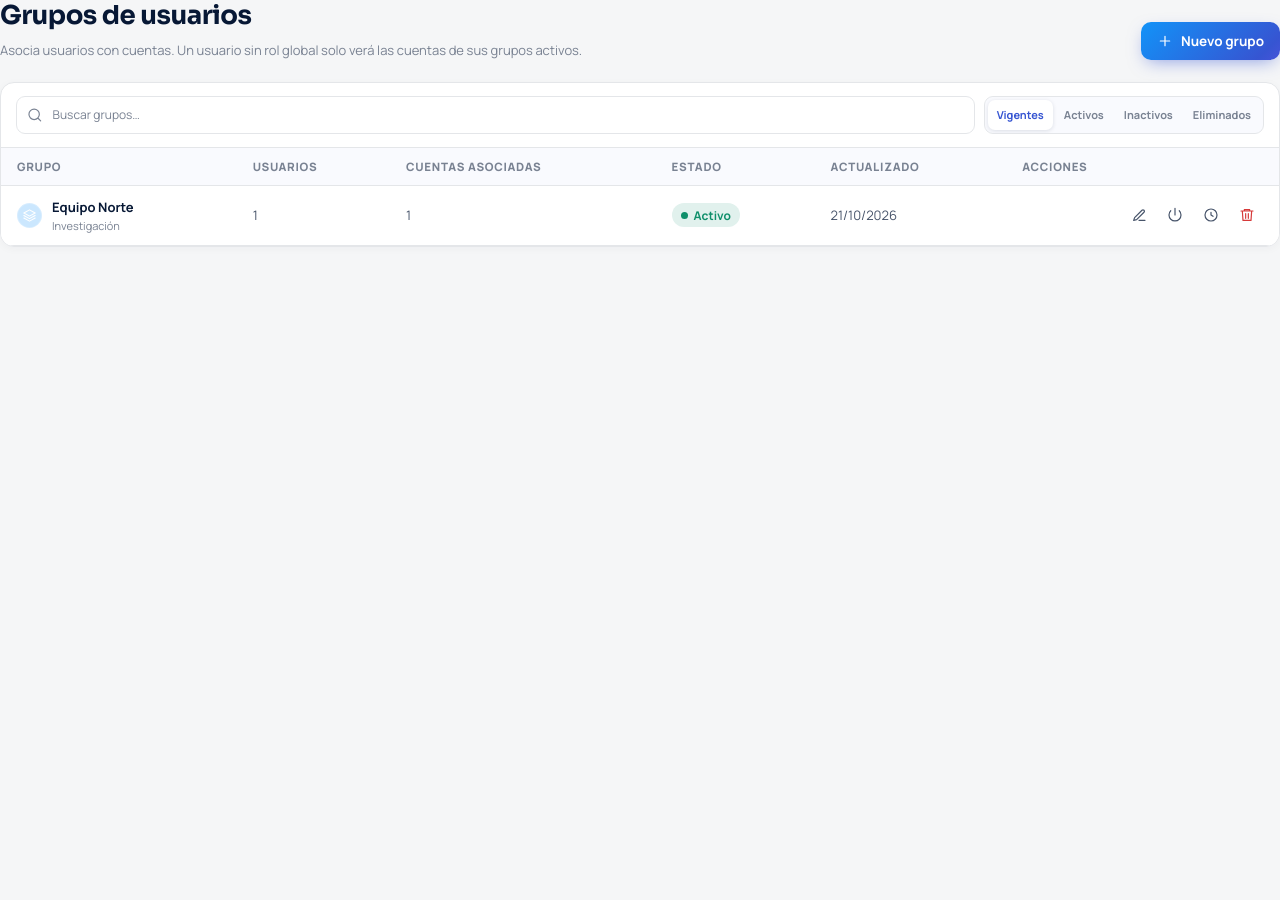
Test: Grupos según patrón de Clientes › fila seleccionable, badge y acciones separadas
Expected: the element with class "badge" reads "Activo", [694,207,731,224]
Expected: the link named "Ver historial de cambios de Equipo Norte" is shown, [1203,207,1219,223]
Step 1. Click the button named "Eliminar Equipo Norte" → (1247, 215), box [1231,199,1263,231]
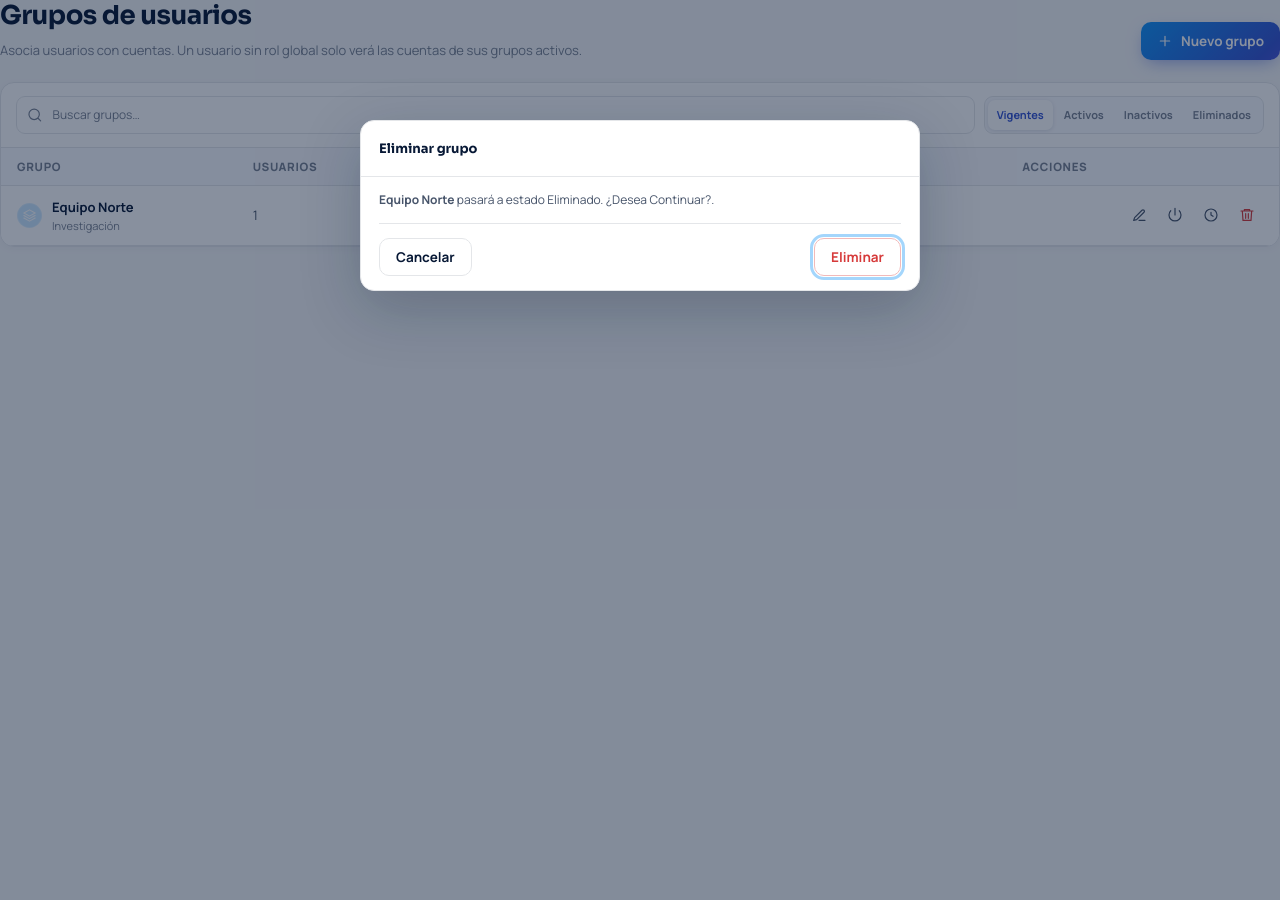
Result: the dialog "Eliminar grupo" is shown at [360,120,920,291]
